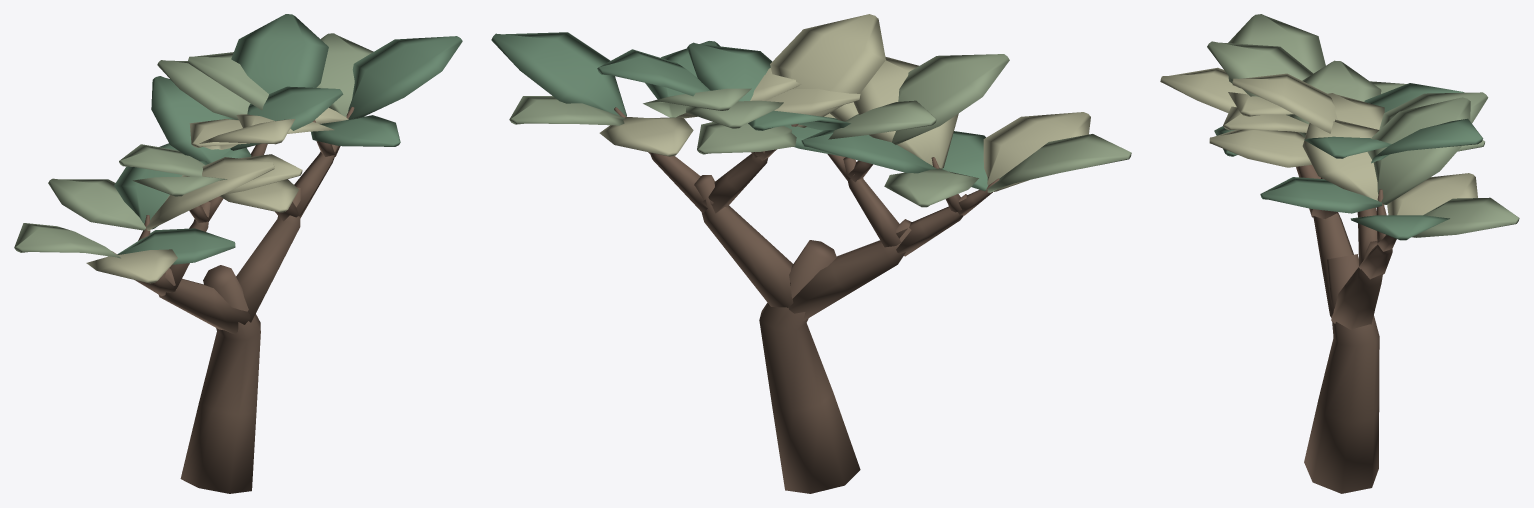
File: tree_canopy.glb
3 renders of one model, left to right at view 1: azimuth 30°, elevation 25°; view 2: azimuth 150°, elevation 25°; view 3: azimuth 270°, elevation 25°, orthographic. The views are drawn at different scales.
Visible parts, largest first — view 1: tree_canopy; view 2: tree_canopy; view 3: tree_canopy.
Part boxes in pixels (left/top/right/bottom): tree_canopy: left=14, top=14, right=462, bottom=493; tree_canopy: left=491, top=14, right=1131, bottom=493; tree_canopy: left=1160, top=14, right=1519, bottom=493.
Bounding box in the file's own units: 7.88 × 5.8 × 4.63.
